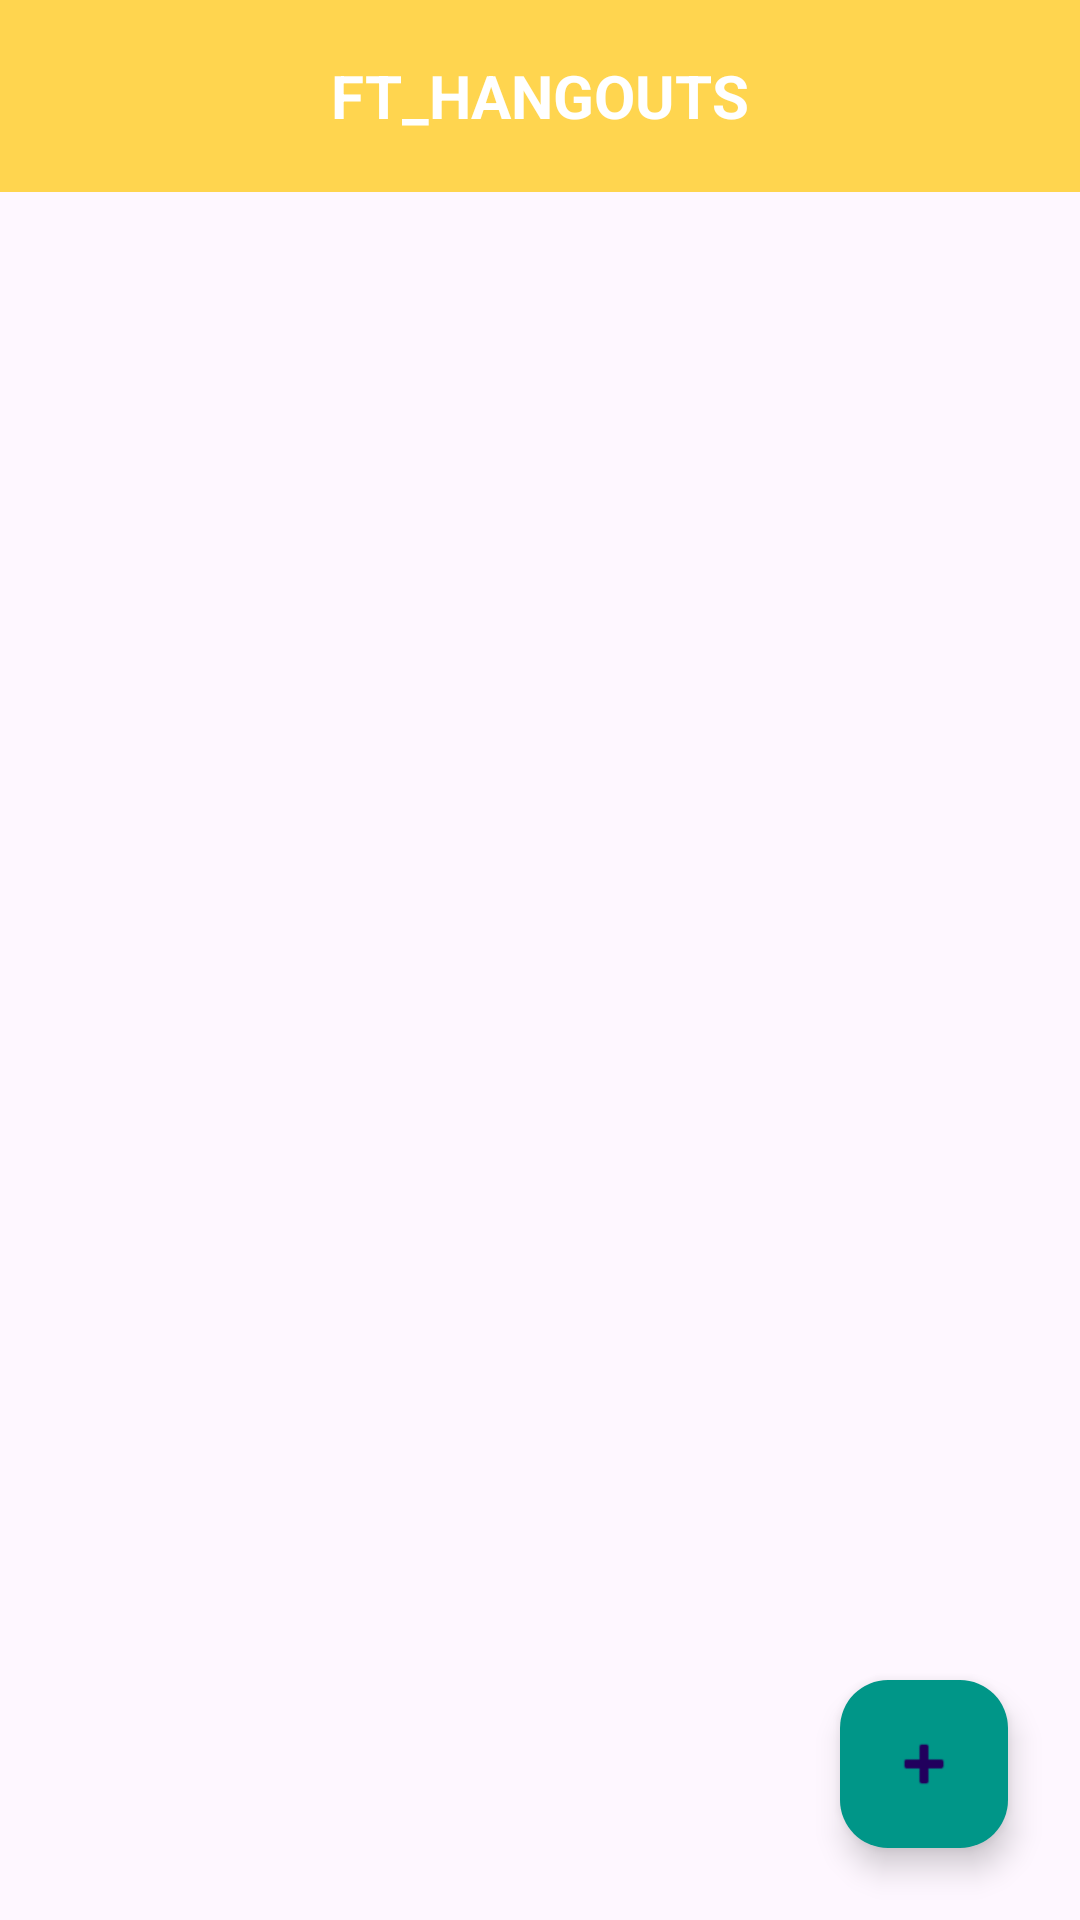

Icon click points for this 1080px x 1920px phone screenshot, format [x,y]:
Aggiungi: [924,1764]
